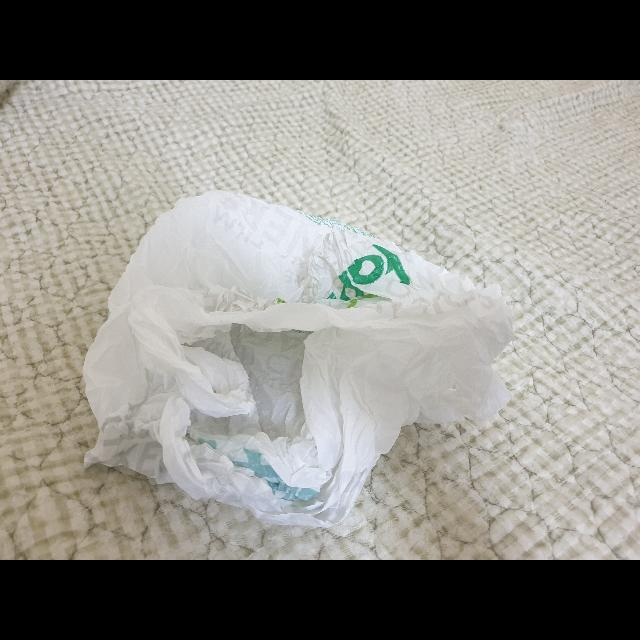plastic_bag: (71, 180, 527, 540)
